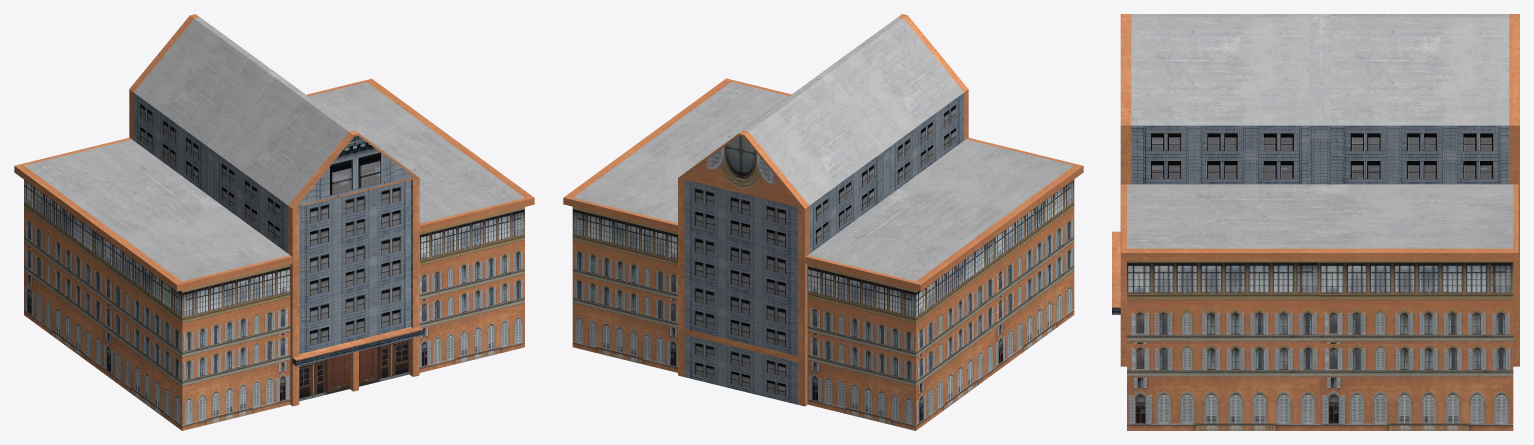
The model's file is Modern Building 14.FBX.
3 views of the same model, side by side, from view 1: azimuth 30°, elevation 25°; view 2: azimuth 150°, elevation 25°; view 3: azimuth 270°, elevation 25° (orthographic). The views are drawn at different scales.
Parts seen in each view (by area): view 1: Classical Building 04; view 2: Classical Building 04; view 3: Classical Building 04.
Part boxes in pixels (x1,y1,x2,y2): Classical Building 04: [14, 14, 534, 430]; Classical Building 04: [563, 14, 1083, 430]; Classical Building 04: [1112, 14, 1519, 430].
Size of the model in its own units: 838 by 575 by 678.
